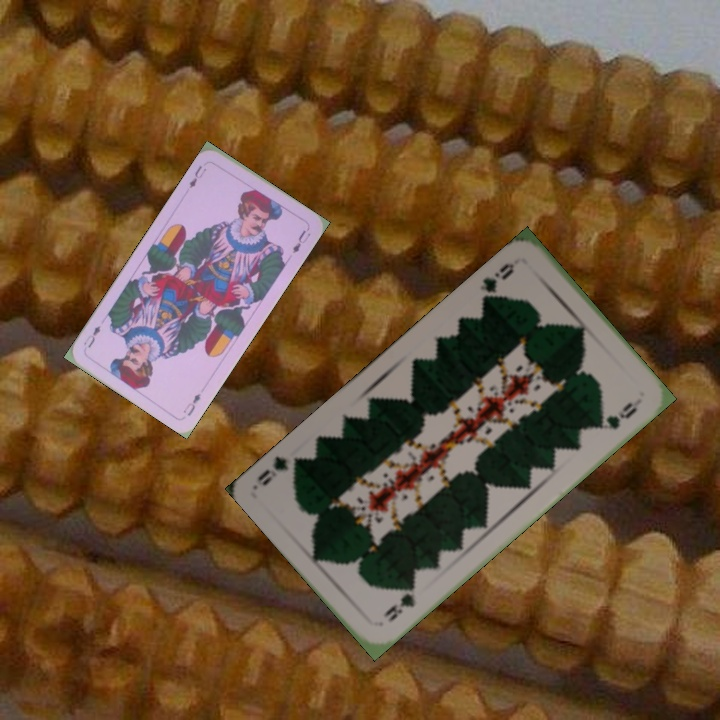EU: (179, 389, 203, 419), (185, 162, 209, 191)
G9: (476, 258, 517, 305), (379, 581, 418, 625)
